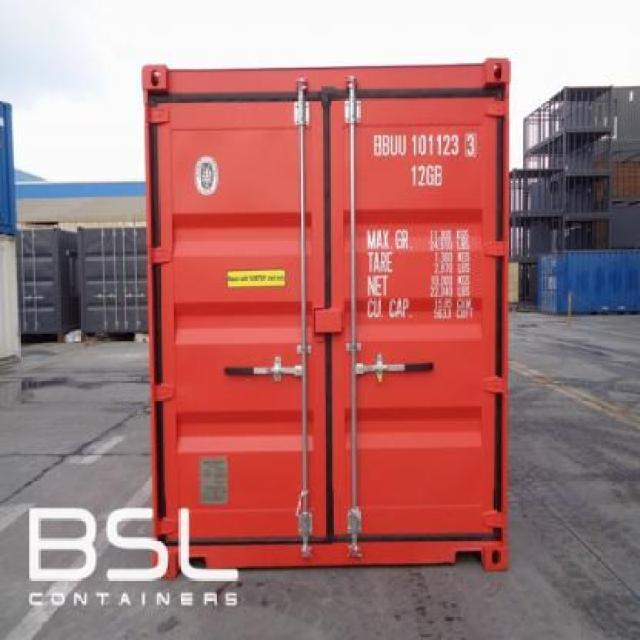ISO: (409, 163, 447, 186)
container_number: (368, 136, 476, 158)
